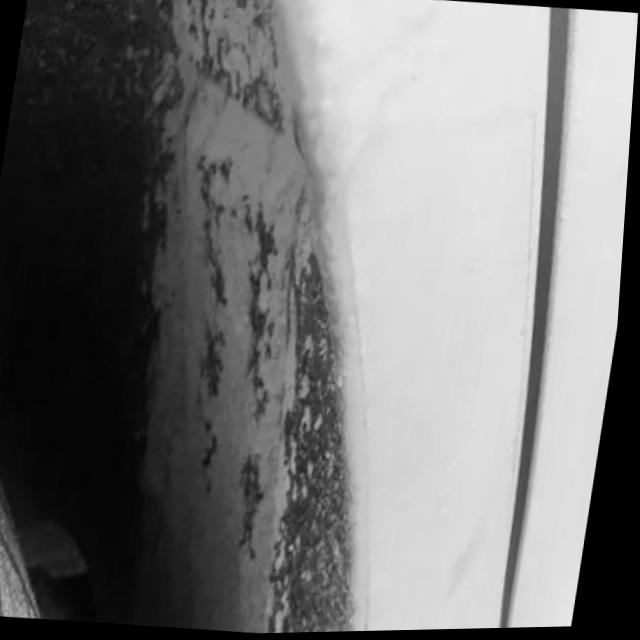Rust: (278, 57, 352, 491)
